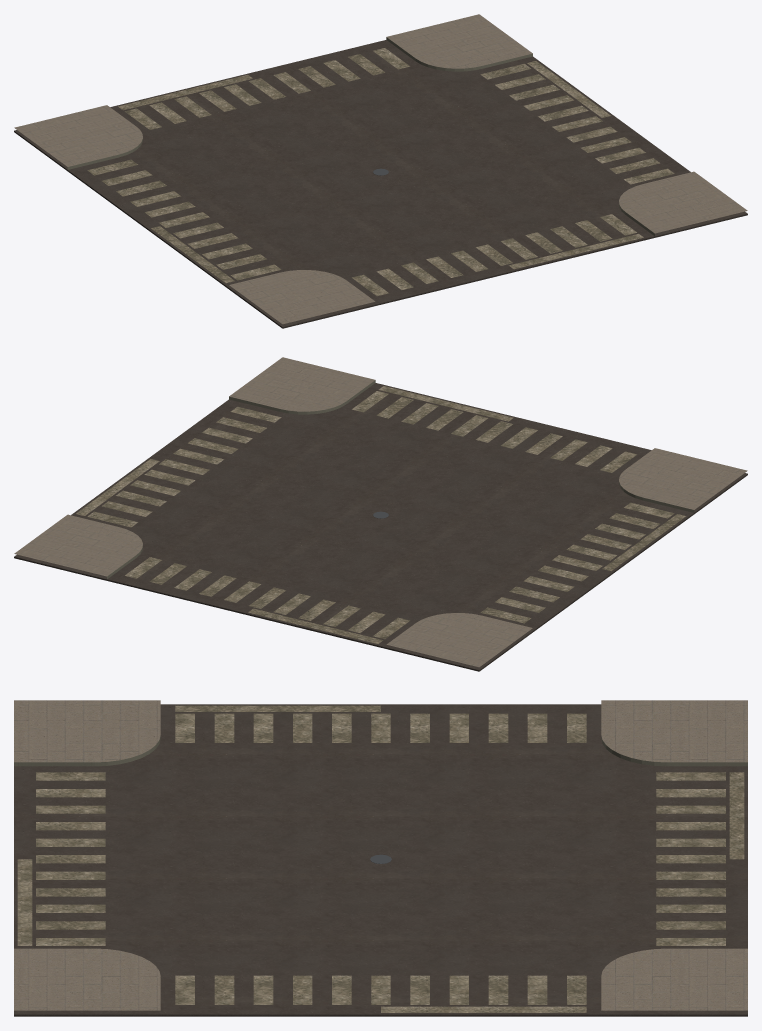
Rendered from road_cross.glb.
3 renders of one model, top to bottom at view 1: azimuth 30°, elevation 25°; view 2: azimuth 150°, elevation 25°; view 3: azimuth 270°, elevation 25°, orthographic. The views are drawn at different scales.
Visible parts, largest first — view 1: road_cross_body; view 2: road_cross_body; view 3: road_cross_body.
Part boxes in pixels (x1=…): road_cross_body: x1=14, y1=14, x2=747, y2=328; road_cross_body: x1=14, y1=357, x2=747, y2=671; road_cross_body: x1=14, y1=700, x2=747, y2=1016.
Size of the model in its own units: 1 by 0.009 by 1.
Materials: 6 (5 with a texture image).
